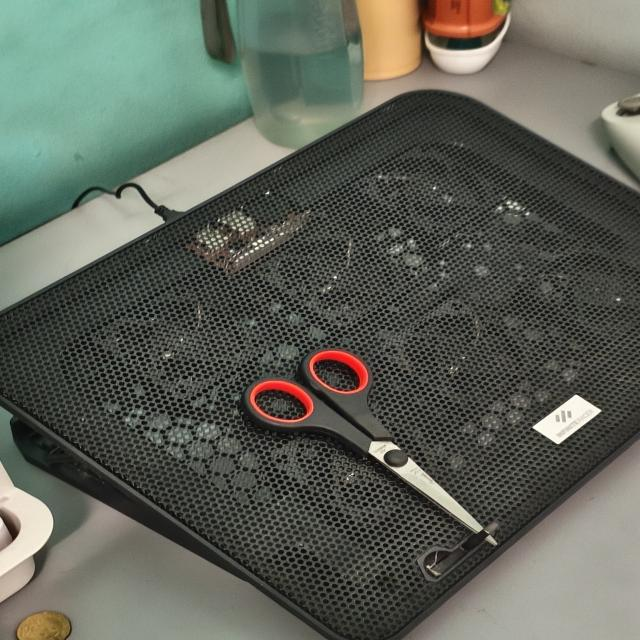scissor: (242, 348, 497, 545)
